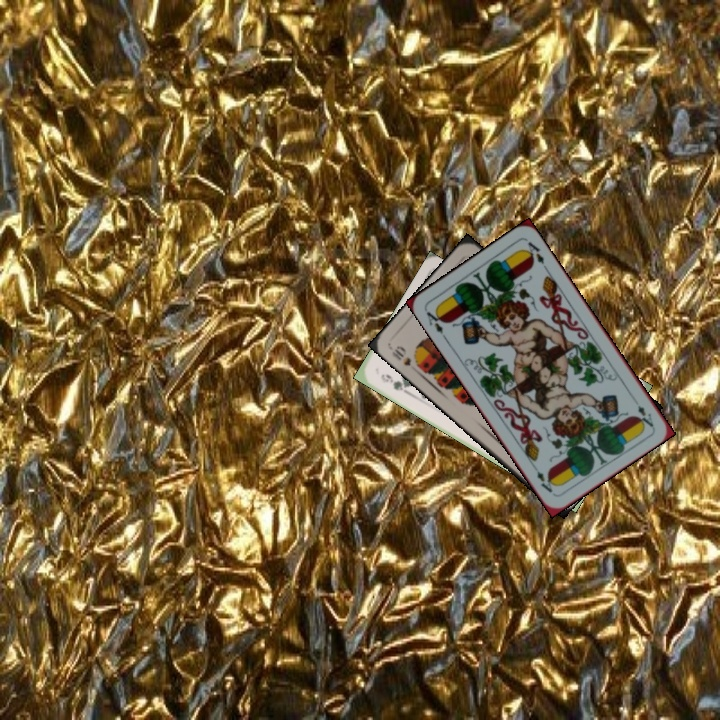EA: (422, 305, 449, 342), (633, 401, 656, 430)
G9: (377, 370, 411, 394)
S10: (387, 342, 414, 369)
